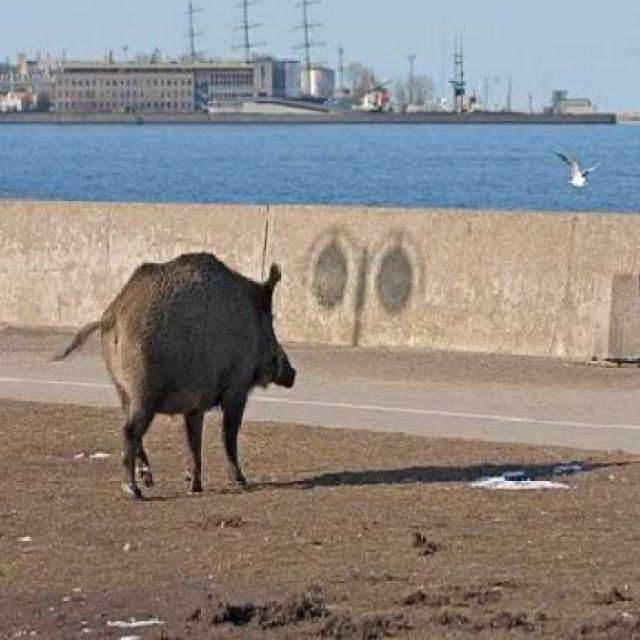pig: (34, 252, 301, 477)
